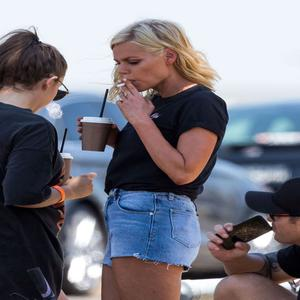cigarette: (113, 78, 127, 90)
